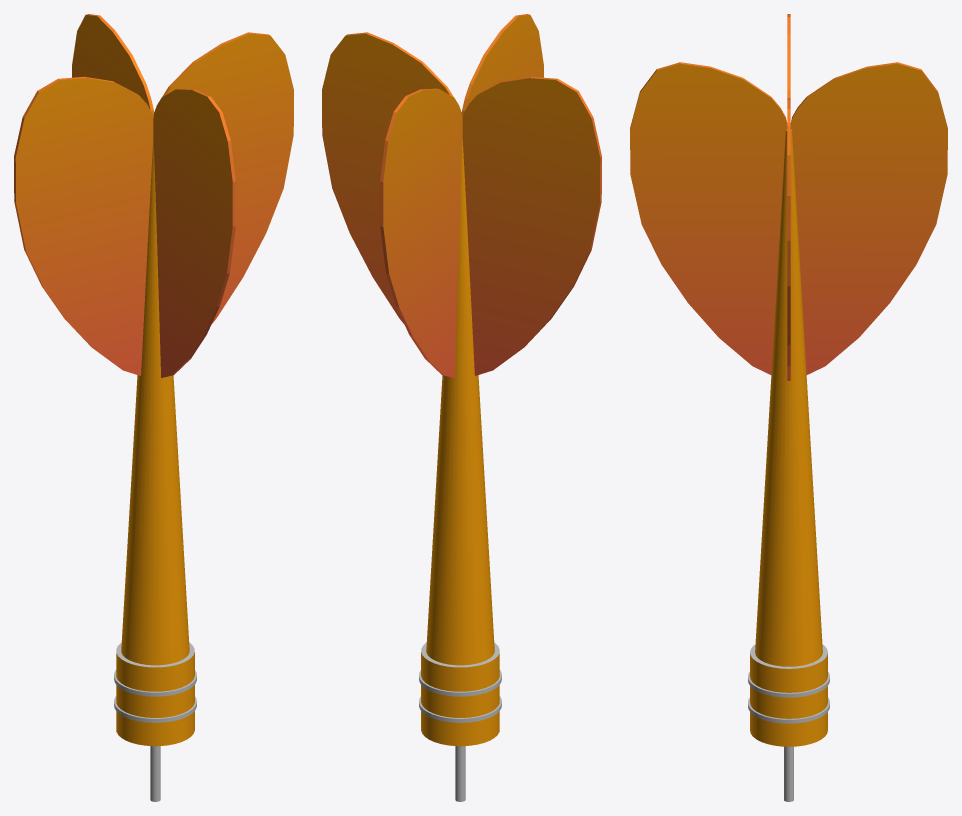
File: Dart.fbx
The picture shows the model from 3 angles, left to right: view 1: azimuth 30°, elevation 25°; view 2: azimuth 150°, elevation 25°; view 3: azimuth 270°, elevation 25°; orthographic projection.
Parts seen in each view (by area): view 1: Dart_Feather.001, Dart, Dart_Feather.002, Dart_Feather.003, Dart_Feather.004; view 2: Dart_Feather.001, Dart, Dart_Feather.004, Dart_Feather.003, Dart_Feather.002; view 3: Dart_Feather.002, Dart_Feather.004, Dart, Dart_Feather.003.
Boxes of the visible parts, x1,y1,x2,y2 form: Dart_Feather.001: (14,76,153,375); Dart: (114,140,196,801); Dart_Feather.002: (153,88,235,377); Dart_Feather.003: (162,32,293,323); Dart_Feather.004: (72,14,154,117); Dart_Feather.001: (462,76,601,375); Dart: (419,140,501,801); Dart_Feather.004: (380,88,462,377); Dart_Feather.003: (322,32,453,323); Dart_Feather.002: (461,14,543,117); Dart_Feather.002: (630,62,787,374); Dart_Feather.004: (790,62,947,374); Dart: (748,129,829,801); Dart_Feather.003: (787,98,790,381).
Bounding box in the file's own units: 110 × 282 × 110.
